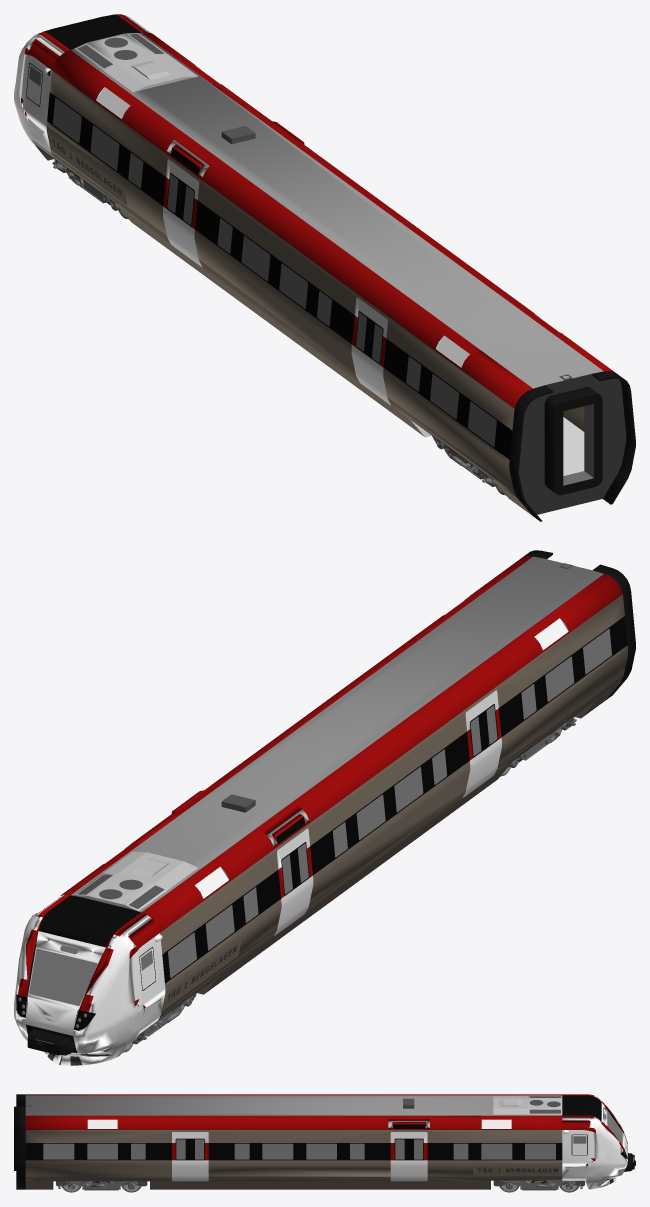
The model's file is ReginaTren_car2.gltf.
3 renders of one model, top to bottom at view 1: azimuth 30°, elevation 25°; view 2: azimuth 150°, elevation 25°; view 3: azimuth 270°, elevation 25°, orthographic. The views are drawn at different scales.
Parts seen in each view (by area): view 1: Sketchup; view 2: Sketchup; view 3: Sketchup.
Boxes of the visible parts, x1,y1,x2,y2 form: Sketchup: (14,14,635,521); Sketchup: (14,550,635,1065); Sketchup: (14,1094,635,1192).
Size of the model in its own units: 3.45 by 4.01 by 26.99.
